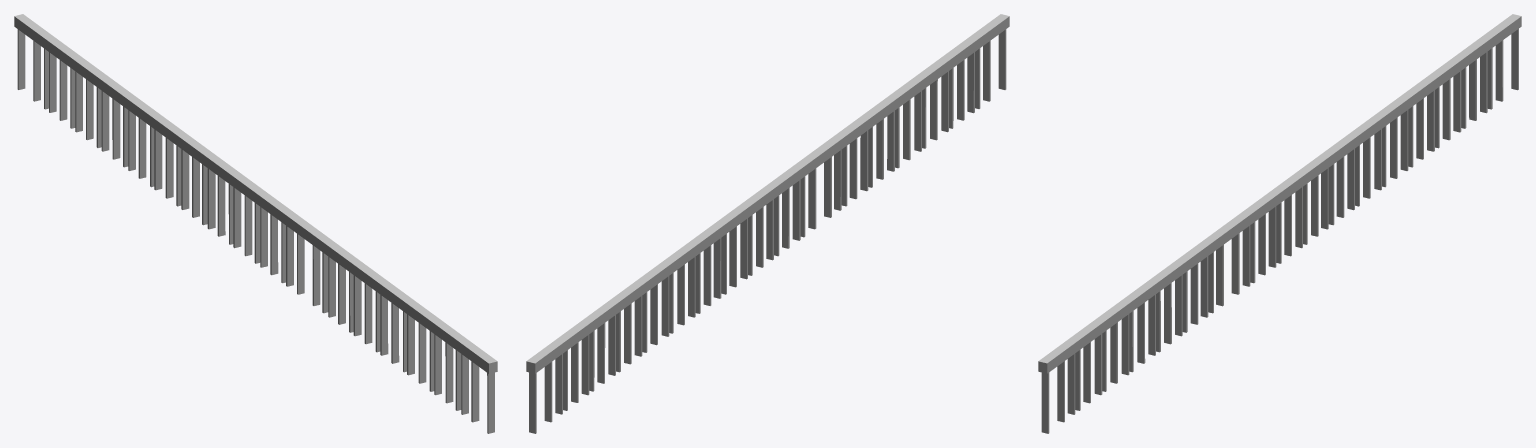
Rendered from InvisibleWall1.fbx.
3 renders of one model, left to right at view 1: azimuth 30°, elevation 25°; view 2: azimuth 150°, elevation 25°; view 3: azimuth 330°, elevation 25°, orthographic.
Visible parts, largest first — view 1: rail__16_, rail__19_, rail__3_, rail__12_, rail, rail__8_, rail__1_, rail__4_, rail__15_, rail__2_, rail__5_, rail__13_ (+6 smaller); view 2: rail__16_, rail__19_, rail, rail__5_, rail__14_, rail__3_, rail__12_, rail__15_, rail__2_, rail__18_, rail__8_, rail__7_ (+6 smaller); view 3: rail__19_, rail, rail__16_, rail__5_, rail__12_, rail__9_, rail__15_, rail__14_, rail__2_, rail__1_, rail__13_, rail__7_ (+6 smaller).
Boxes of the visible parts, left/top/right/bottom form: rail__16_: left=14, top=14, right=58, bottom=112; rail__19_: left=455, top=335, right=497, bottom=433; rail__3_: left=121, top=91, right=164, bottom=190; rail__12_: left=345, top=257, right=390, bottom=355; rail: left=40, top=33, right=85, bottom=132; rail__8_: left=251, top=191, right=296, bottom=286; rail__1_: left=67, top=53, right=111, bottom=151; rail__4_: left=146, top=113, right=191, bottom=209; rail__15_: left=427, top=316, right=470, bottom=414; rail__2_: left=96, top=73, right=137, bottom=170; rail__5_: left=176, top=137, right=217, bottom=229; rail__13_: left=372, top=278, right=417, bottom=375; rail__16_: left=526, top=335, right=571, bottom=433; rail__19_: left=966, top=14, right=1009, bottom=113; rail: left=553, top=315, right=597, bottom=414; rail__5_: left=685, top=218, right=730, bottom=317; rail__14_: left=912, top=53, right=956, bottom=151; rail__3_: left=633, top=258, right=676, bottom=356; rail__12_: left=858, top=92, right=902, bottom=191; rail__15_: left=939, top=33, right=983, bottom=132; rail__2_: left=608, top=277, right=650, bottom=375; rail__18_: left=831, top=112, right=876, bottom=210; rail__8_: left=766, top=161, right=808, bottom=260; rail__7_: left=738, top=180, right=782, bottom=279; rail__19_: left=1038, top=337, right=1083, bottom=433; rail: left=1450, top=33, right=1495, bottom=132; rail__16_: left=1480, top=14, right=1521, bottom=113; rail__5_: left=1318, top=130, right=1362, bottom=229; rail__12_: left=1146, top=256, right=1190, bottom=355; rail__9_: left=1213, top=207, right=1257, bottom=306; rail__15_: left=1064, top=316, right=1109, bottom=414; rail__14_: left=1091, top=297, right=1136, bottom=395; rail__2_: left=1397, top=74, right=1442, bottom=170; rail__1_: left=1424, top=54, right=1468, bottom=151; rail__13_: left=1118, top=276, right=1163, bottom=375; rail__7_: left=1268, top=168, right=1310, bottom=267.
Size of the model in its own units: 7.36 by 56.73 by 676.
1 material, 1 textured.
